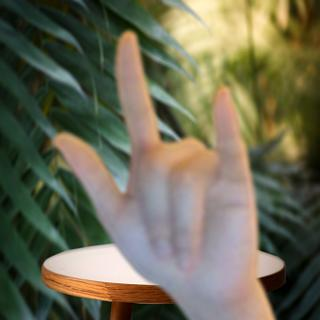ILY: (44, 25, 268, 308)
